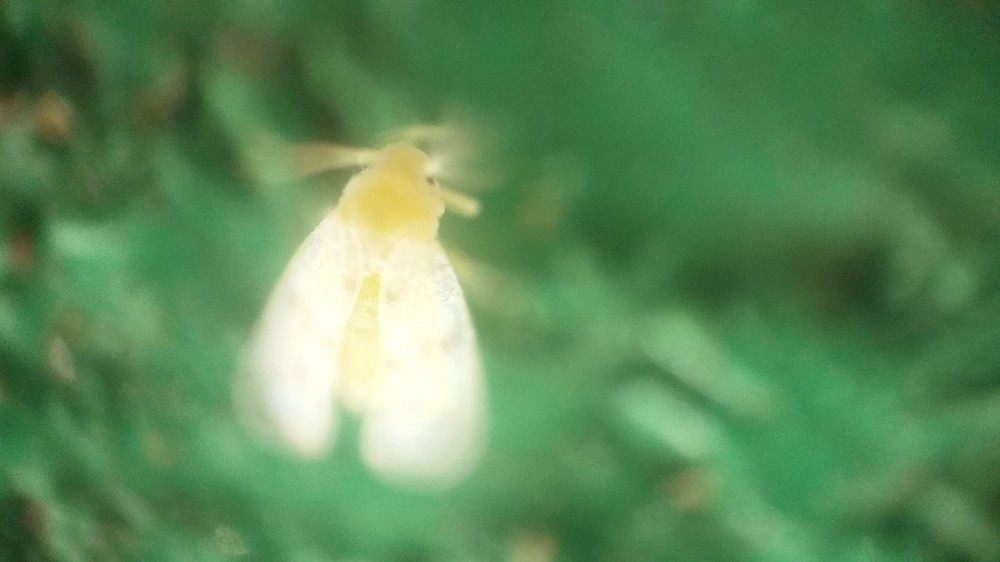Mosca Blanca: (201, 107, 549, 512)
